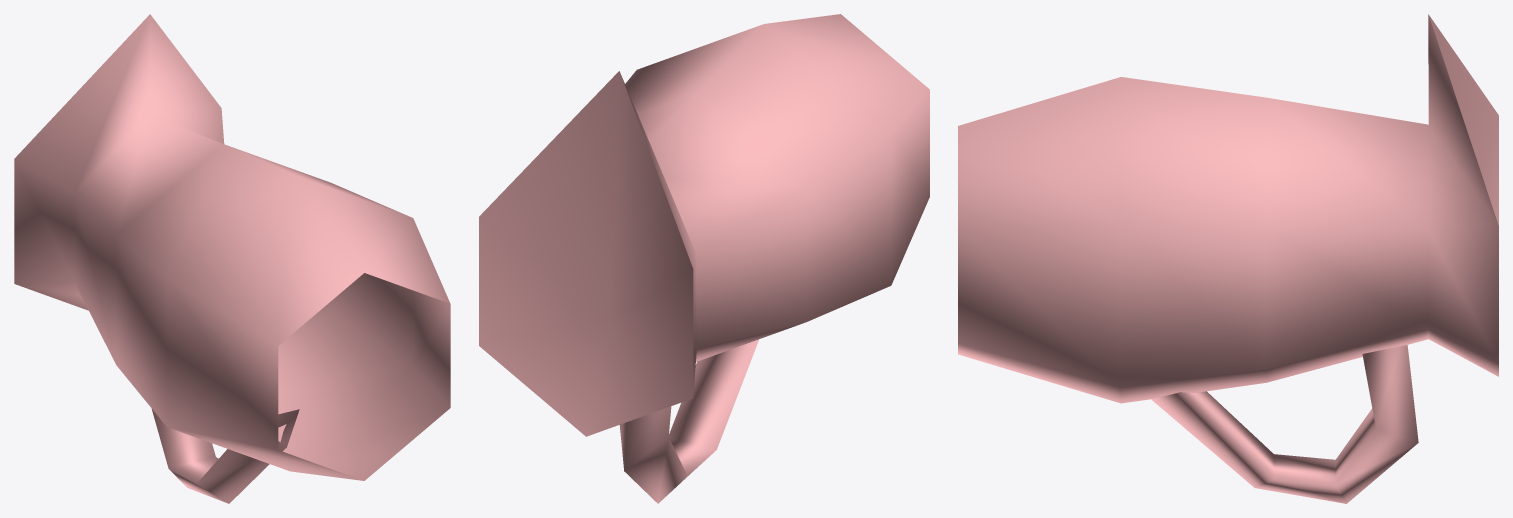
3 views of the same model, side by side, from view 1: azimuth 30°, elevation 25°; view 2: azimuth 150°, elevation 25°; view 3: azimuth 270°, elevation 25° (orthographic). The views are drawn at different scales.
Visible parts, largest first — view 1: Object32; view 2: Object32; view 3: Object32.
Part boxes in pixels (<box>): Object32: <box>14,14,450,503</box>; Object32: <box>479,14,929,503</box>; Object32: <box>958,14,1498,503</box>.
Bounding box in the file's own units: 2503 × 4335 × 4337.
